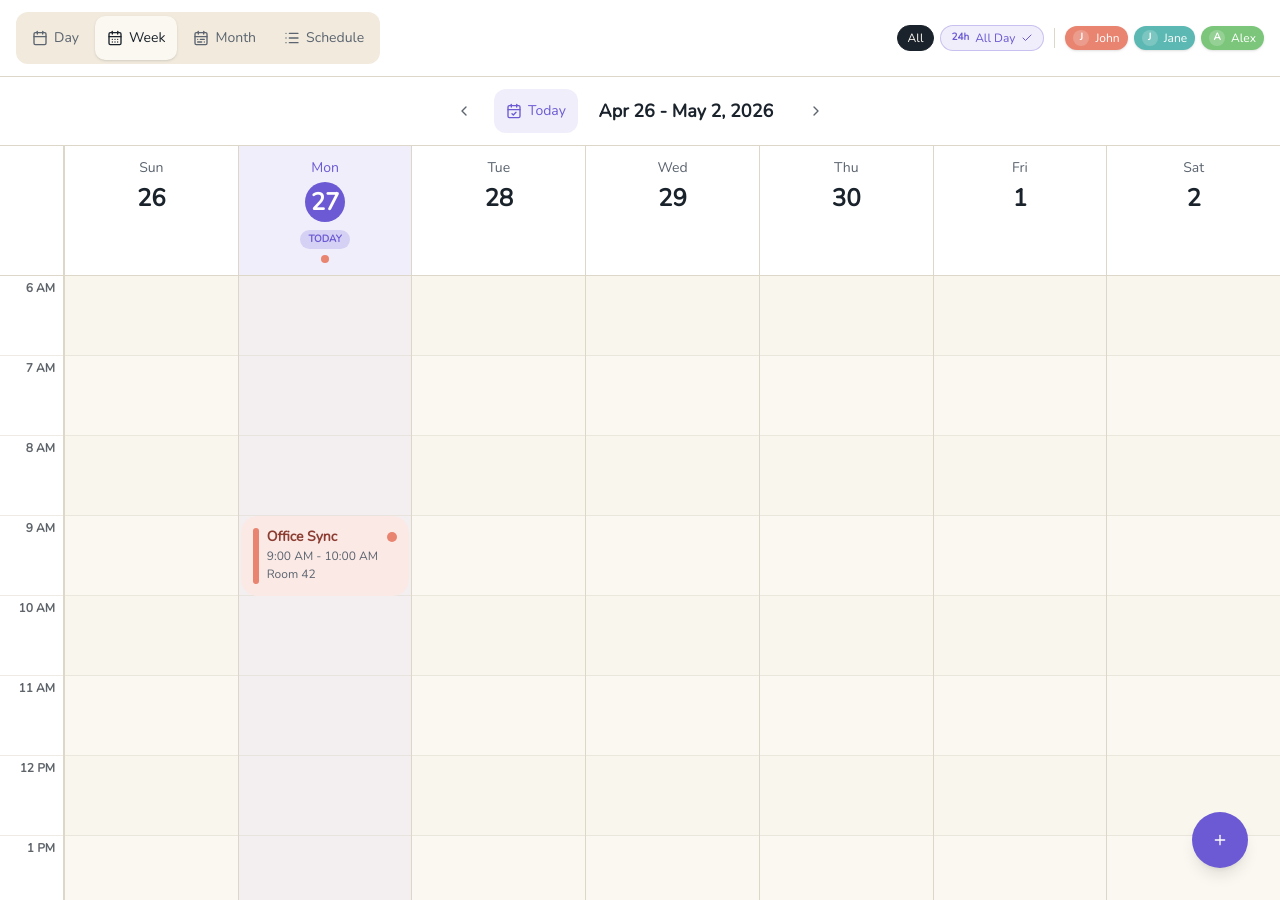
CalendarModule › Edit Event Flow › sends all fields including optional ones in PUT request
// Open detail modal → edit modal
Step 1. Click the heading "Office Sync" → (302, 536), box [267,527,337,546]
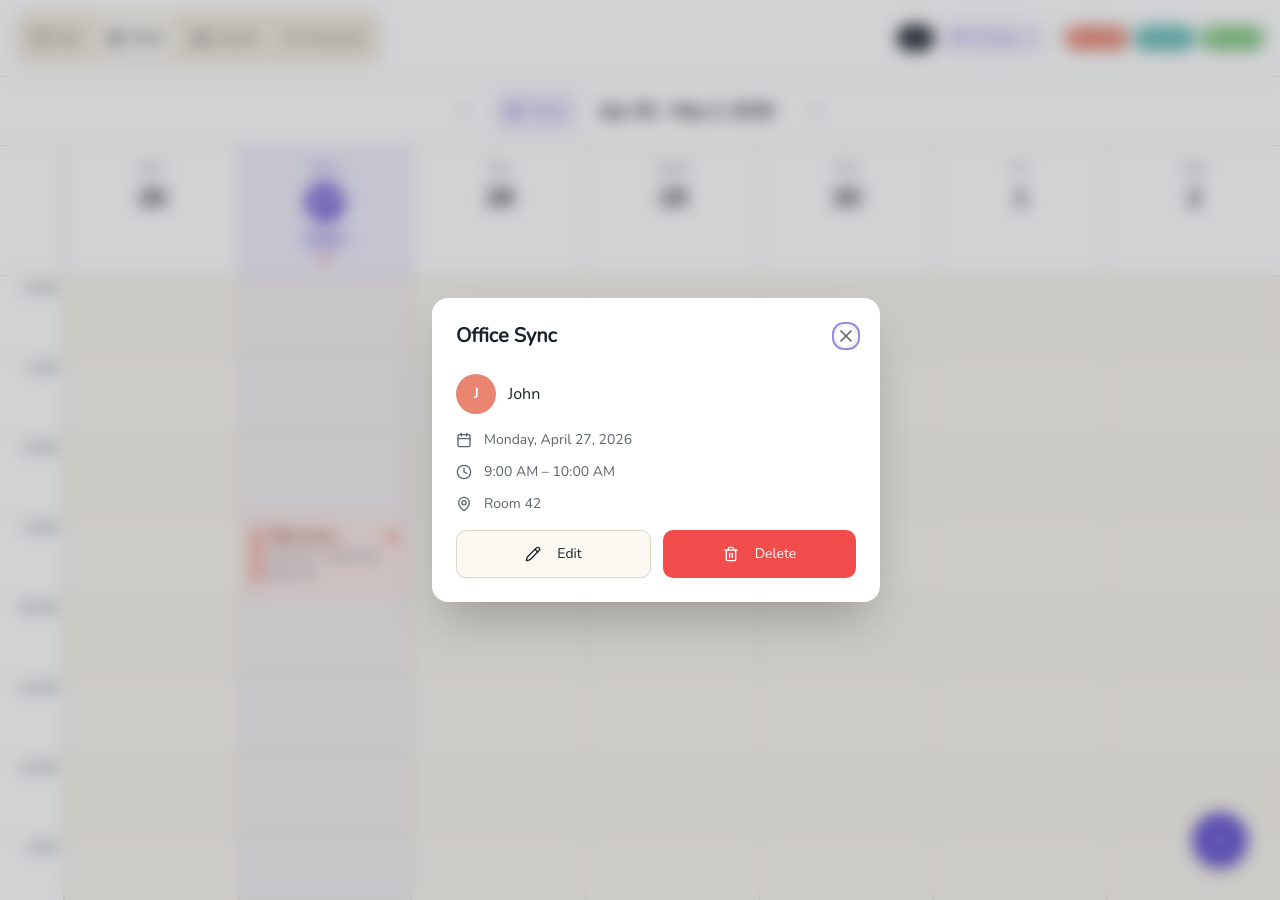
Expected: the dialog is shown, [432,298,880,602]
Step 2. Click the button "Edit" → (554, 554), box [456,530,651,578]
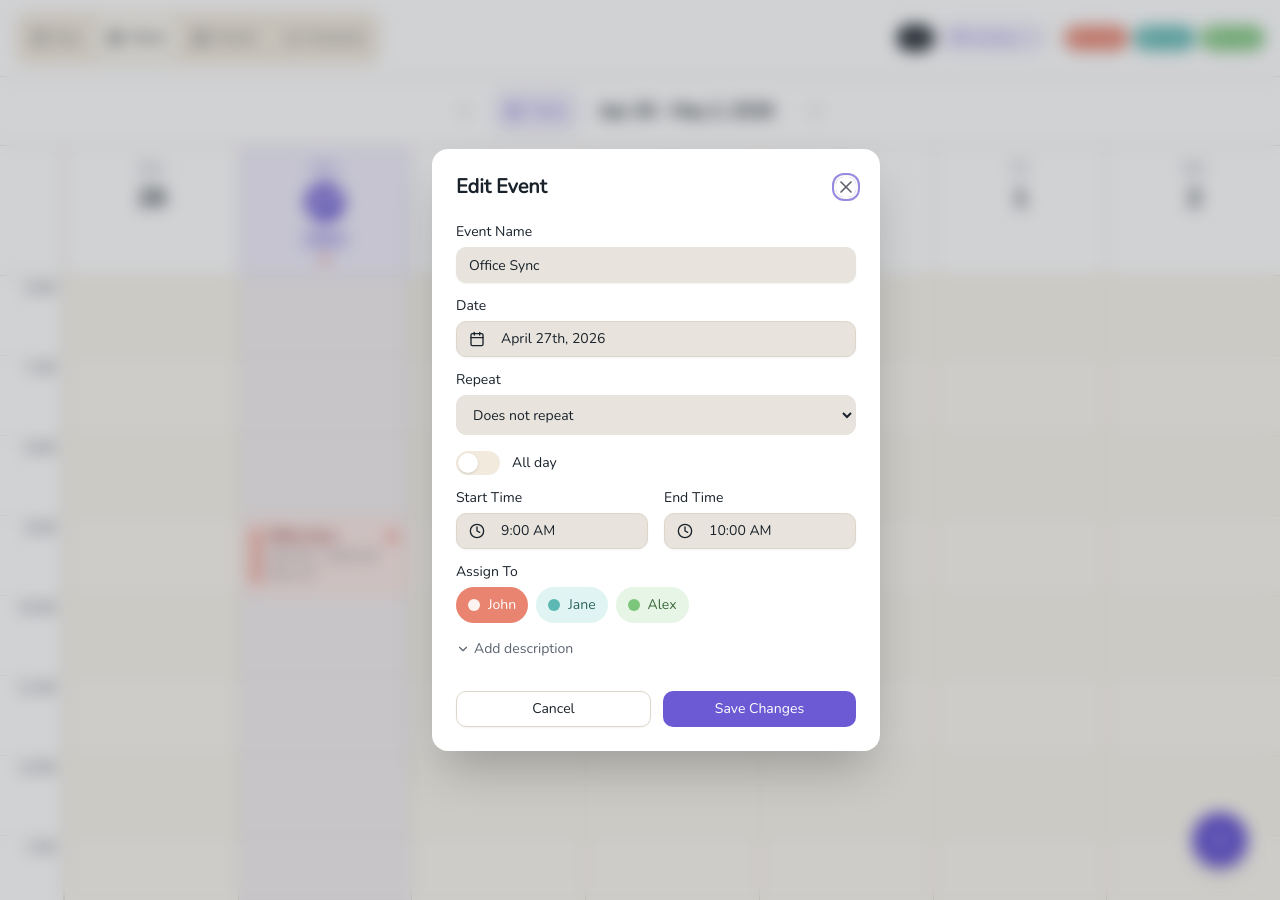
Expected: the field labelled "Event Name" holds "Office Sync"
// Change only the title
Step 3. Replace the text in the field labelled "Event Name" with "Office Standup" → (656, 265), box [456,247,856,283]
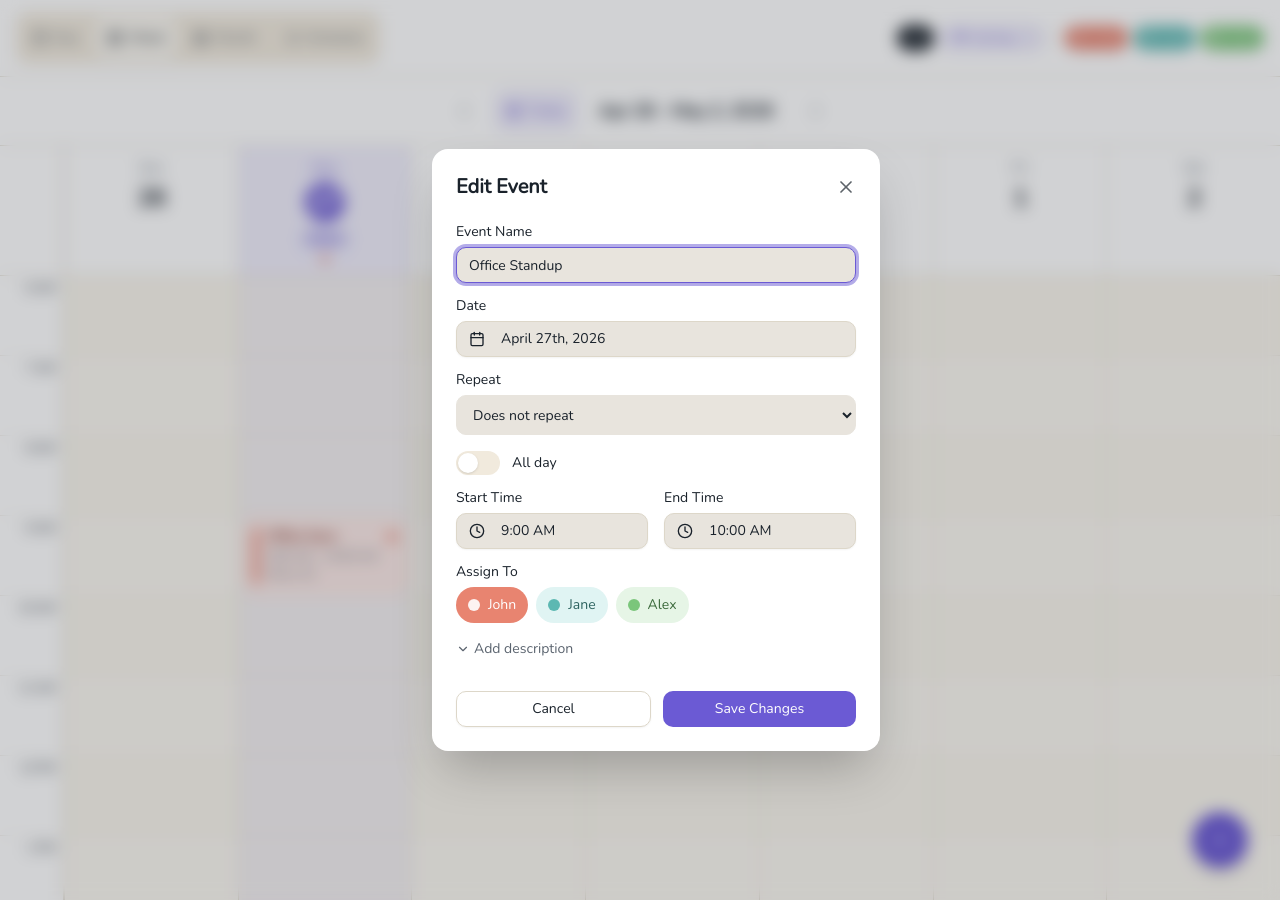
Step 4. Click the button "Save Changes" → (760, 709), box [663,691,856,727]
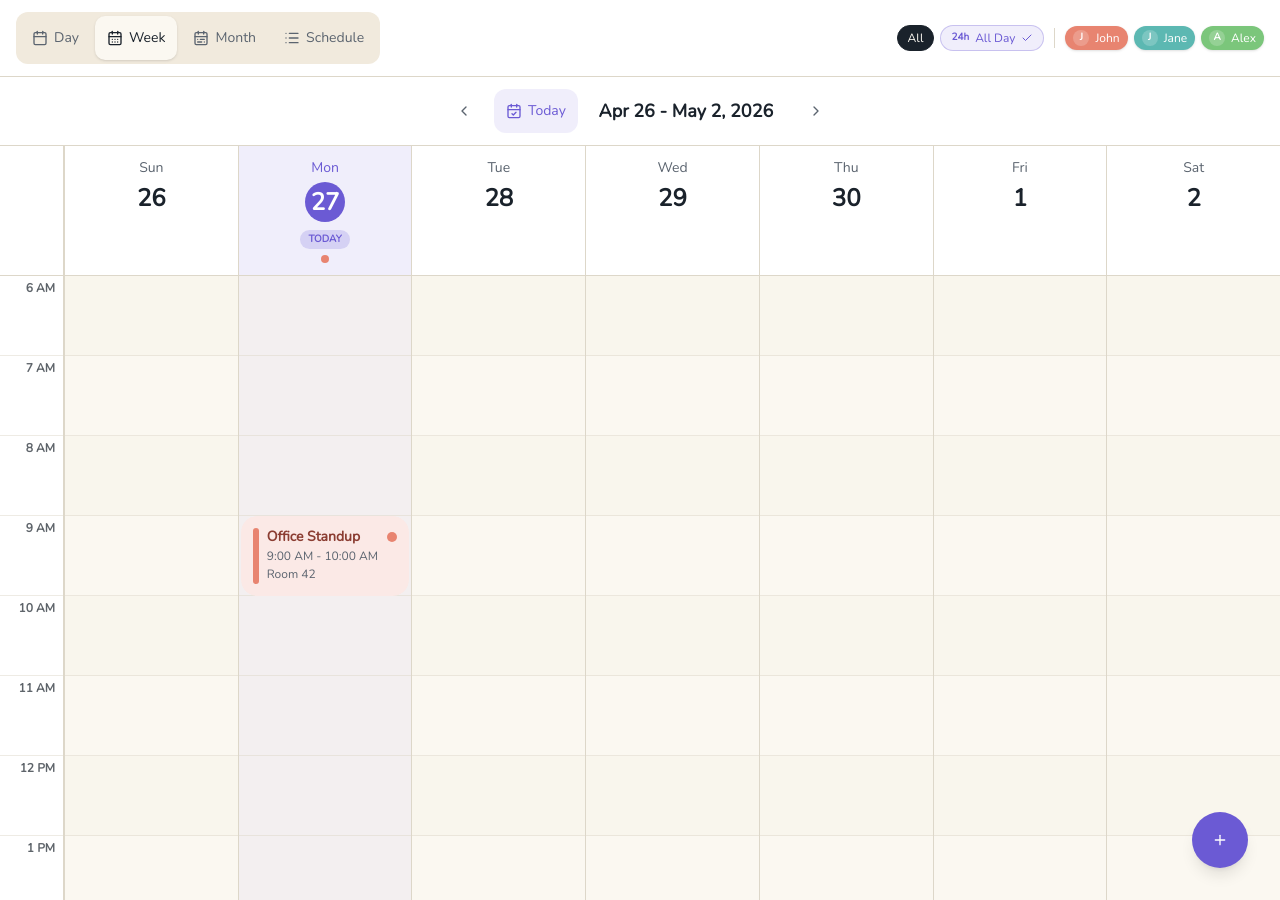
Expected: the text "Room 42" is shown, [267,566,316,582]
Expected: the heading "Office Sync" reads "Office Standup", [267,527,360,546]
